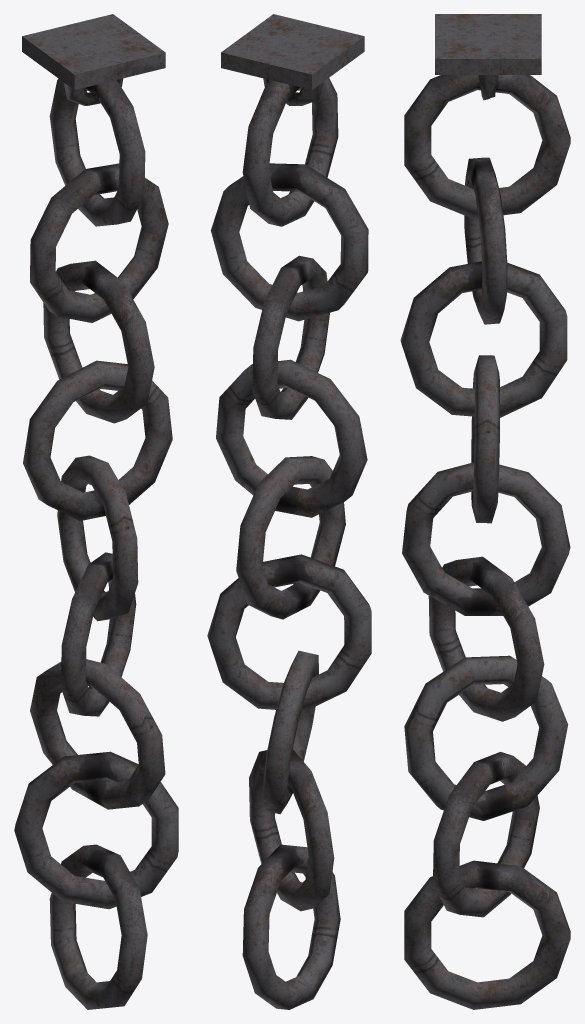
Rendered from Castle Wall Ring Chain.fbx.
3 renders of one model, left to right at view 1: azimuth 30°, elevation 25°; view 2: azimuth 150°, elevation 25°; view 3: azimuth 270°, elevation 25°, orthographic.
Visible parts, largest first — view 1: Cube; view 2: Cube; view 3: Cube.
Part boxes in pixels (x1=…): Cube: x1=14, y1=14, x2=178, y2=1009; Cube: x1=207, y1=14, x2=371, y2=1009; Cube: x1=400, y1=14, x2=570, y2=1009.
Bounding box in the file's own units: 39.05 × 247 × 39.13.
